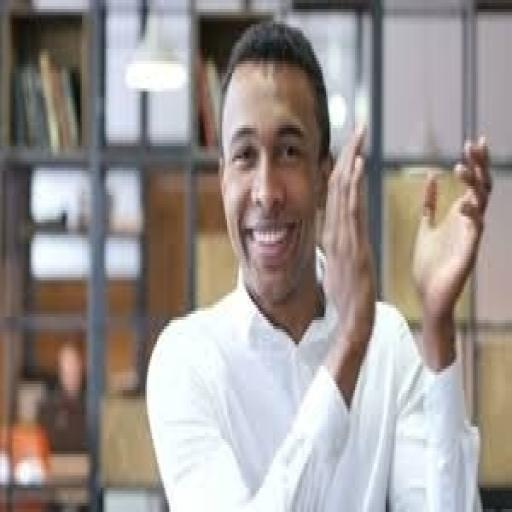clapping: (144, 18, 494, 509)
